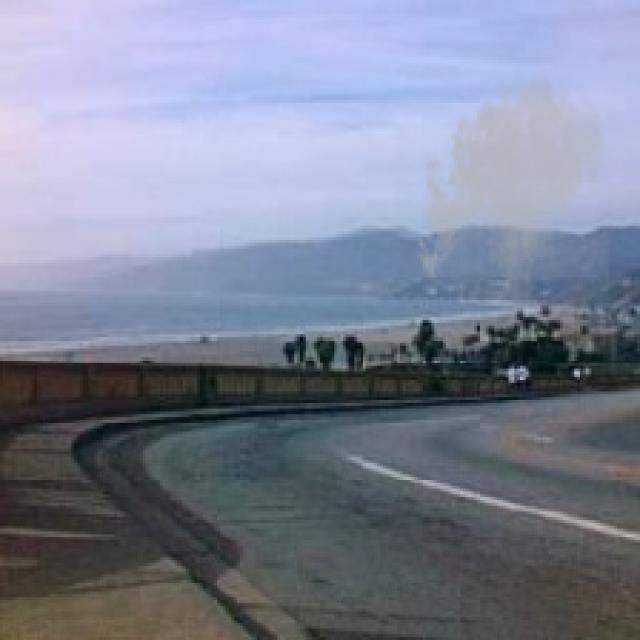smoke: (412, 65, 612, 308)
